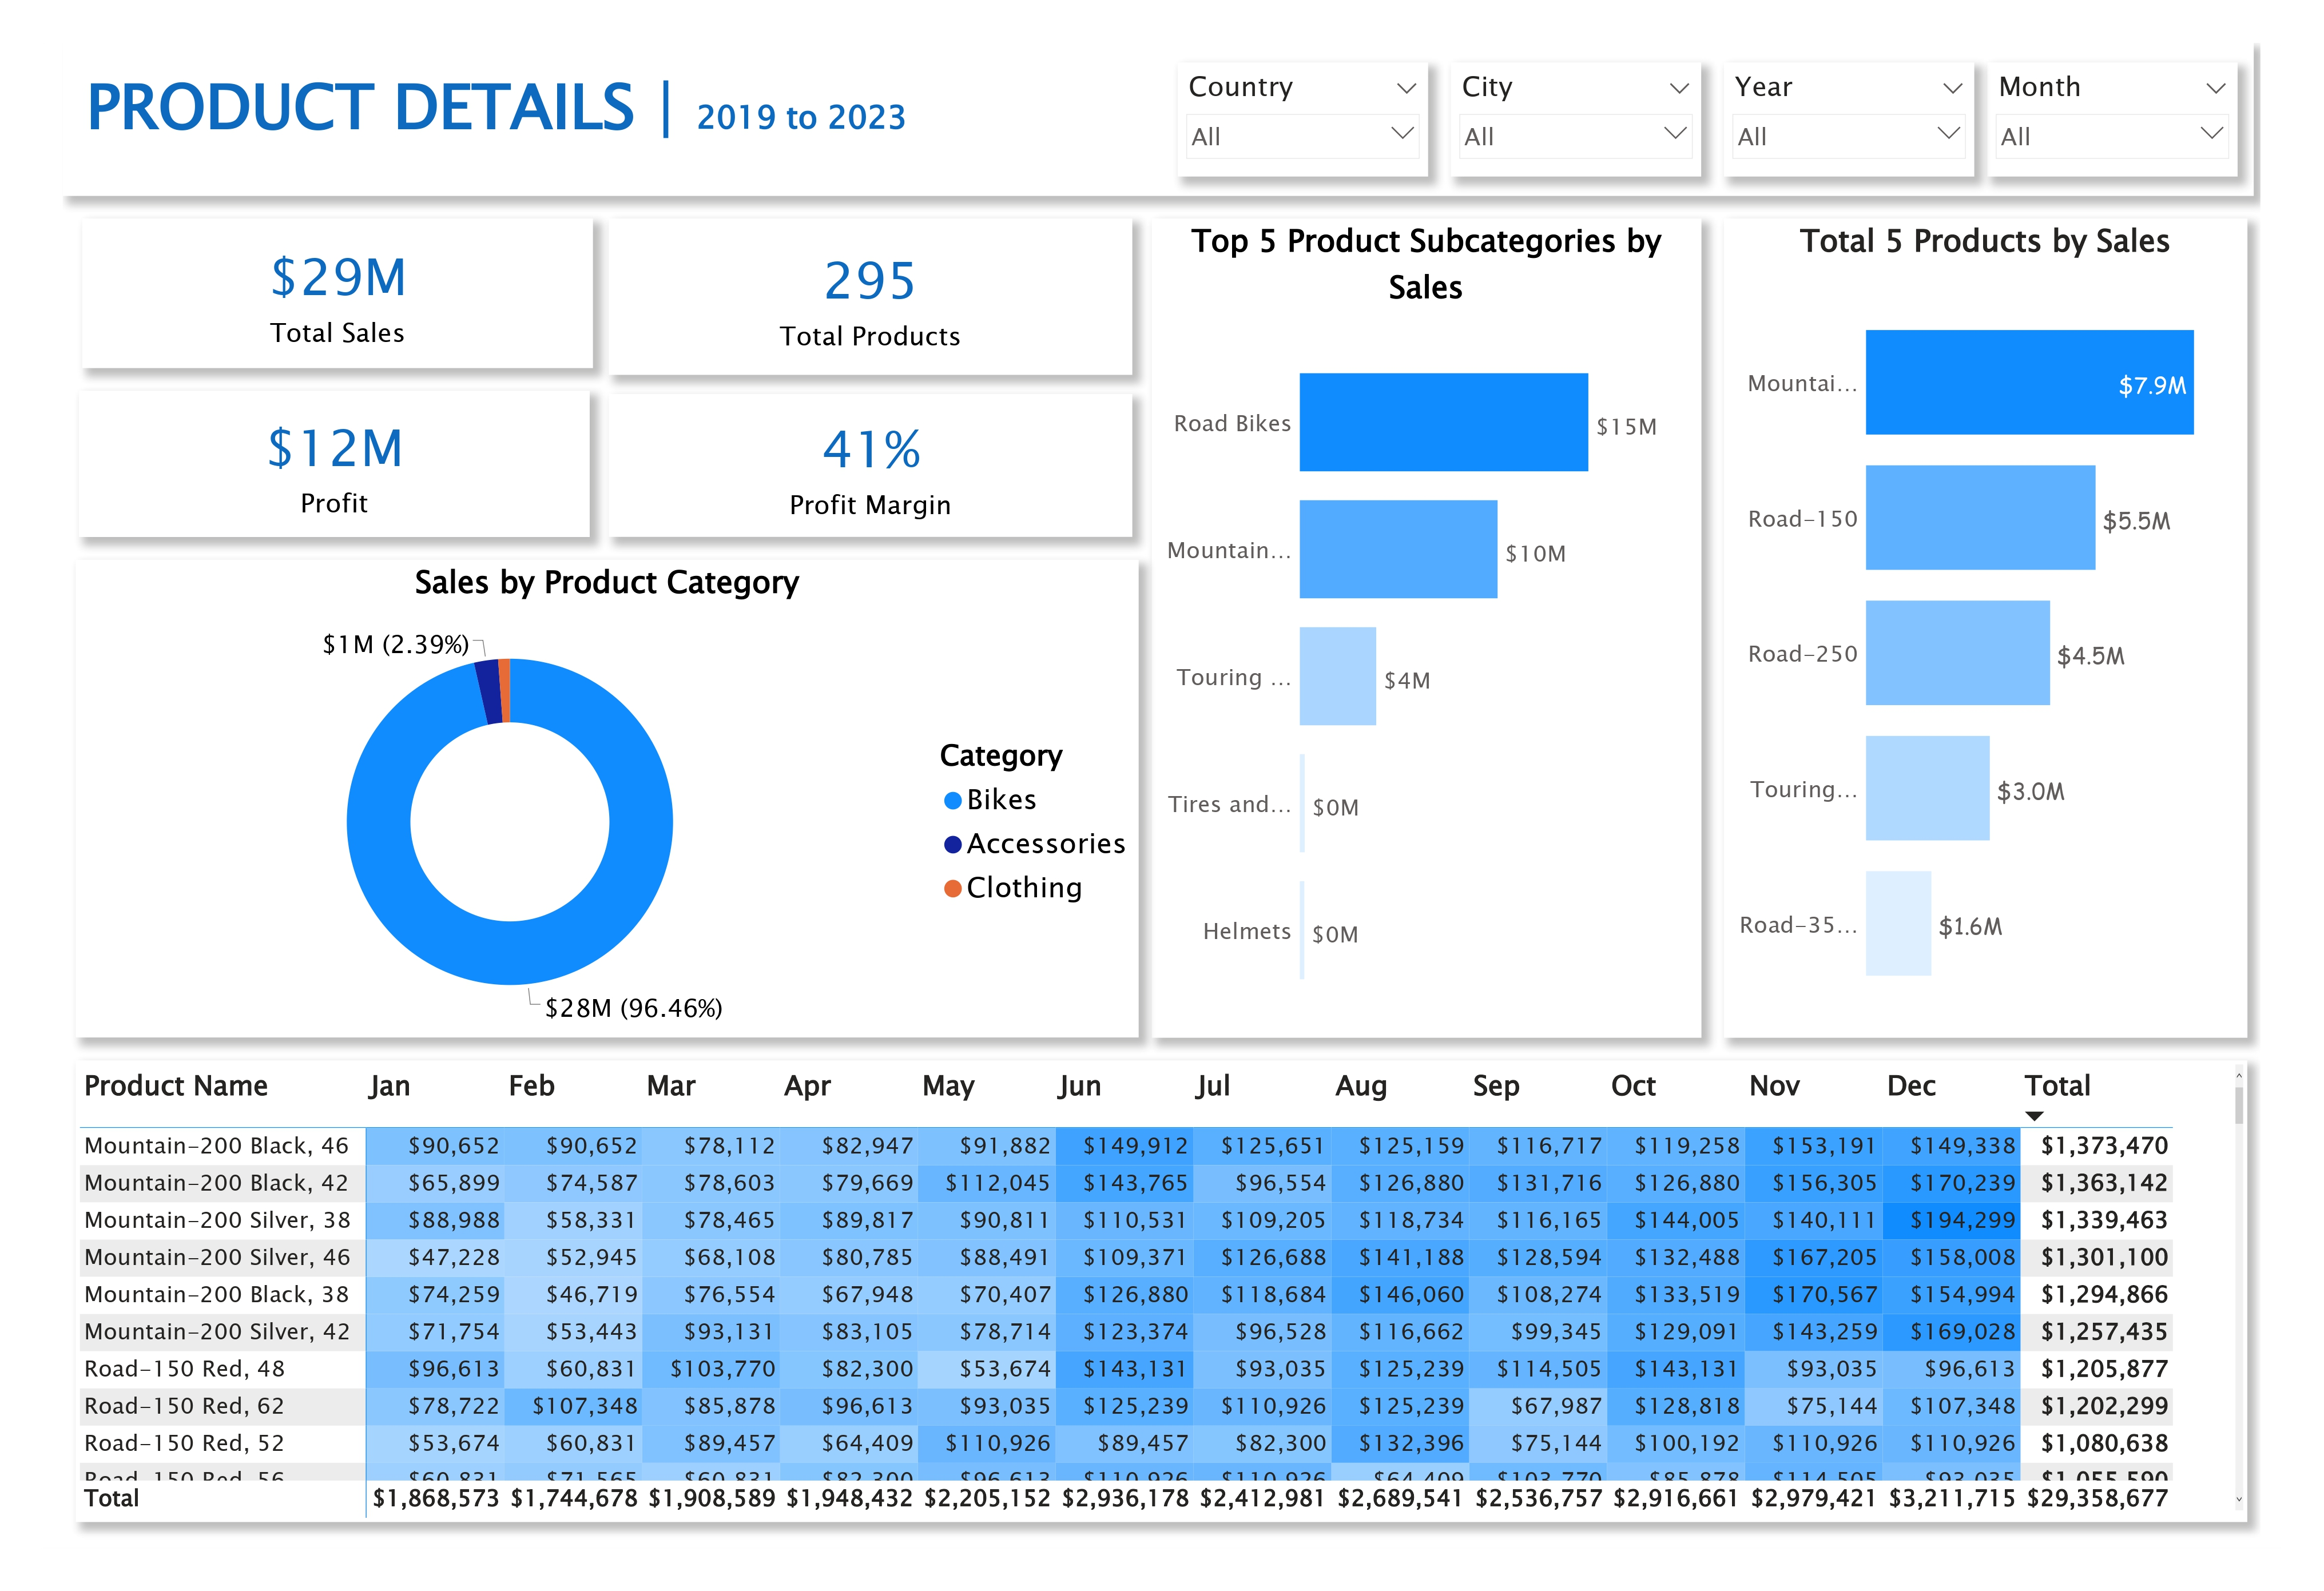

The page's visual inventory and layout, read from the dashboard file:
{"tool":"powerbi","page":{"name":"Product Details","canvas":[2600,1780],"ordinal":1},"visuals":[{"type":"card","fields":{"Values":["Measure.Total Sales"]},"box":[23.1,207.6,603.6,176.8],"z":0},{"type":"card","fields":{"Values":["Measure.Profit"]},"box":[19.2,411.4,603.6,173],"z":1000},{"type":"card","fields":{"Values":["Measure.Profit Margin"]},"box":[645.9,415.2,619,169.2],"z":2000},{"type":"card","fields":{"Values":["Measure.Total Products"]},"box":[645.9,207.6,619,184.5],"z":3000},{"type":"barChart","title":"Top 5 Product Subcategories by Sales","fields":{"Y":["Measure.Total Sales"],"Category":["products.SubCategory"]},"box":[1287.9,207.6,649.7,968.8],"z":4000},{"type":"donutChart","title":"Sales by Product Category","fields":{"Y":["Measure.Total Sales"],"Category":["products.Category"]},"box":[15.4,611.3,1257.1,565.1],"z":5000},{"type":"textbox","box":[0,0,2591.2,180.7],"z":6000},{"type":"clusteredBarChart","title":"Total 5 Products by Sales","fields":{"Y":["Measure.Total Sales"],"Category":["products.ModelName"]},"box":[1964.5,207.6,619,968.8],"z":7000},{"type":"slicer","fields":{"Values":["Calendar.Month"]},"box":[2275.9,23.1,296,134.6],"z":8000},{"type":"slicer","fields":{"Values":["Calendar.Year"]},"box":[1964.5,23.1,296,134.6],"z":9000},{"type":"slicer","fields":{"Values":["geography.City"]},"box":[1641.6,23.1,296,134.6],"z":10000},{"type":"pivotTable","title":"Sales by Product Category","fields":{"Values":["Measure.Total Sales"],"Rows":["products.ProductName"],"Columns":["Calendar.Month"]},"box":[15.4,1203.3,2568.1,545.9],"z":11000},{"type":"slicer","fields":{"Values":["geography.Country Name"]},"box":[1318.7,23.1,296,134.6],"z":12000}]}

Visuals, with their boxes in screenshot pixels (x1, y1, x2, y2), scaled from the page's 2600x1780 canvas onto the 2324x1591 screenshot:
card - Measure.Total Sales: [21,185,560,344]
card - Measure.Profit: [17,368,557,522]
card - Measure.Profit Margin: [577,371,1131,522]
card - Measure.Total Products: [577,185,1131,351]
"Top 5 Product Subcategories by Sales" barChart: [1151,185,1732,1052]
"Sales by Product Category" donutChart: [14,546,1138,1052]
textbox: [0,0,2316,161]
"Total 5 Products by Sales" clusteredBarChart: [1756,185,2309,1052]
slicer - Calendar.Month: [2035,21,2299,141]
slicer - Calendar.Year: [1756,21,2020,141]
slicer - geography.City: [1467,21,1732,141]
"Sales by Product Category" pivotTable: [14,1076,2309,1564]
slicer - geography.Country Name: [1179,21,1443,141]
